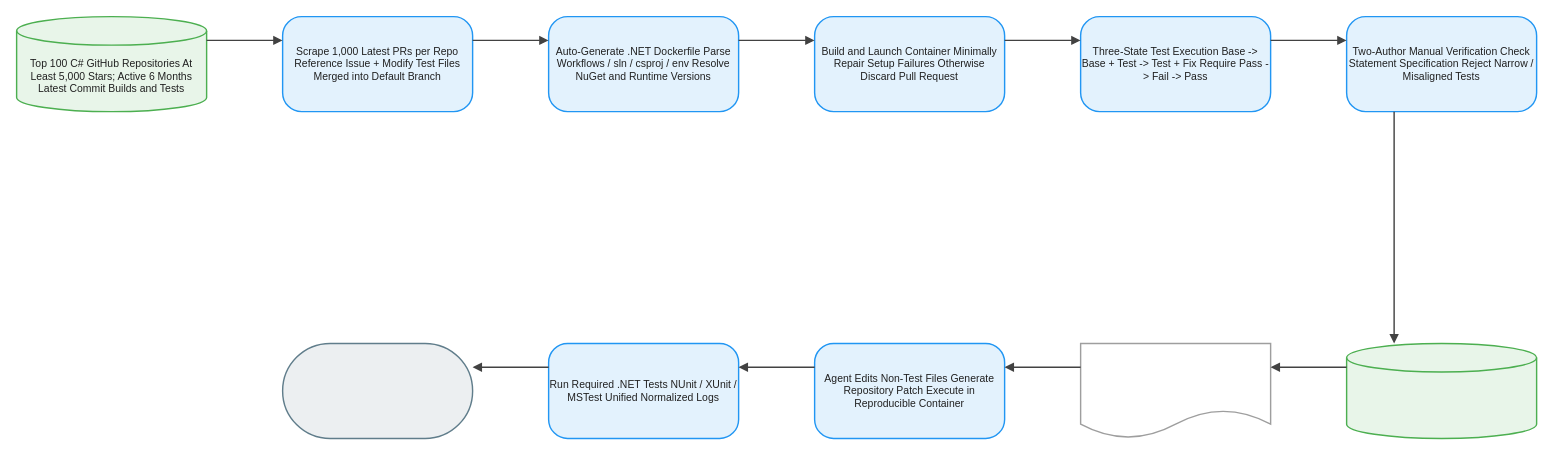
Image size: 1554x456. Some labels were removed from this diagram. Each missing label, with the centre of its shape:
"Resolved Instance Generated Patch Passes All Tests Metric: Resolution Rate" belongs at [377,390].
"SWE-Agent or OpenHands C#-Adapted Prompt One Valid Attempt; 2-Hour Timeout" belongs at [1175,390].
"SWE-Sharp-Bench 150 Issue-Resolving Tasks 17 C# Repositories" belongs at [1441,390].
